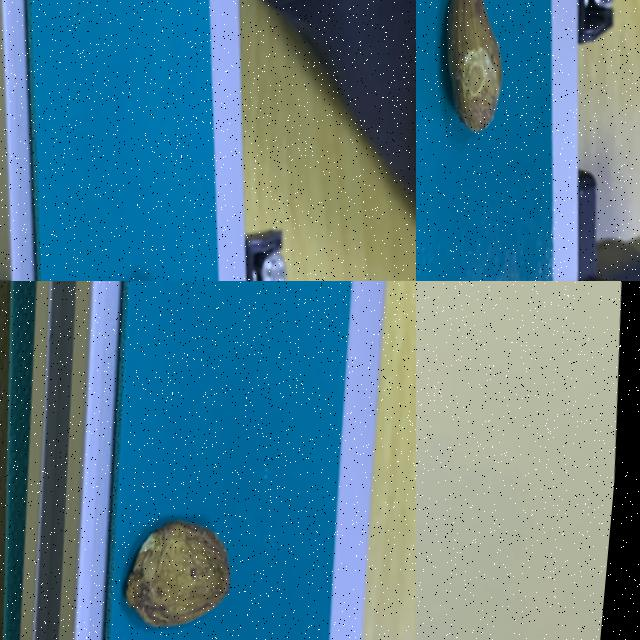Fine_cocoabeans: (416, 0, 569, 191), (93, 198, 241, 280)
Flat_cocoabeans: (97, 424, 277, 639)
